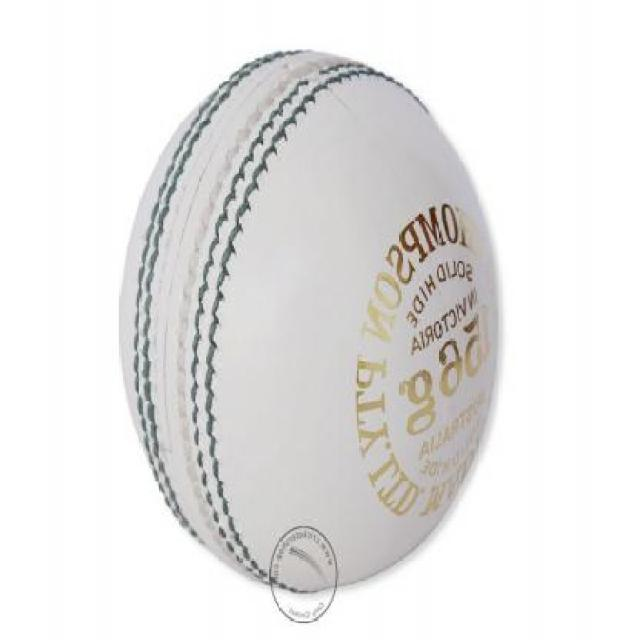ball: (49, 37, 532, 620)
